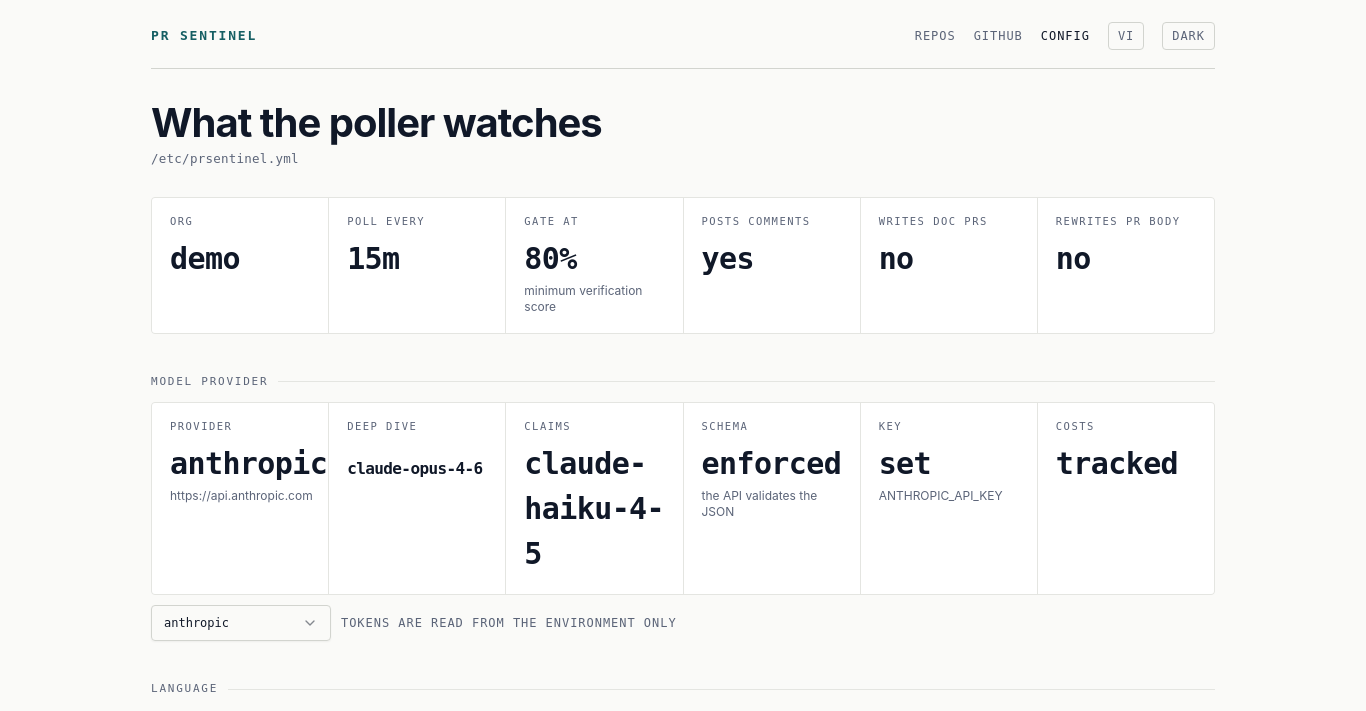
Test: App › renders the config page in Vietnamese
The image size is (1366, 711).
Click the button "VI": (1126,36) [1108, 22, 1144, 50]
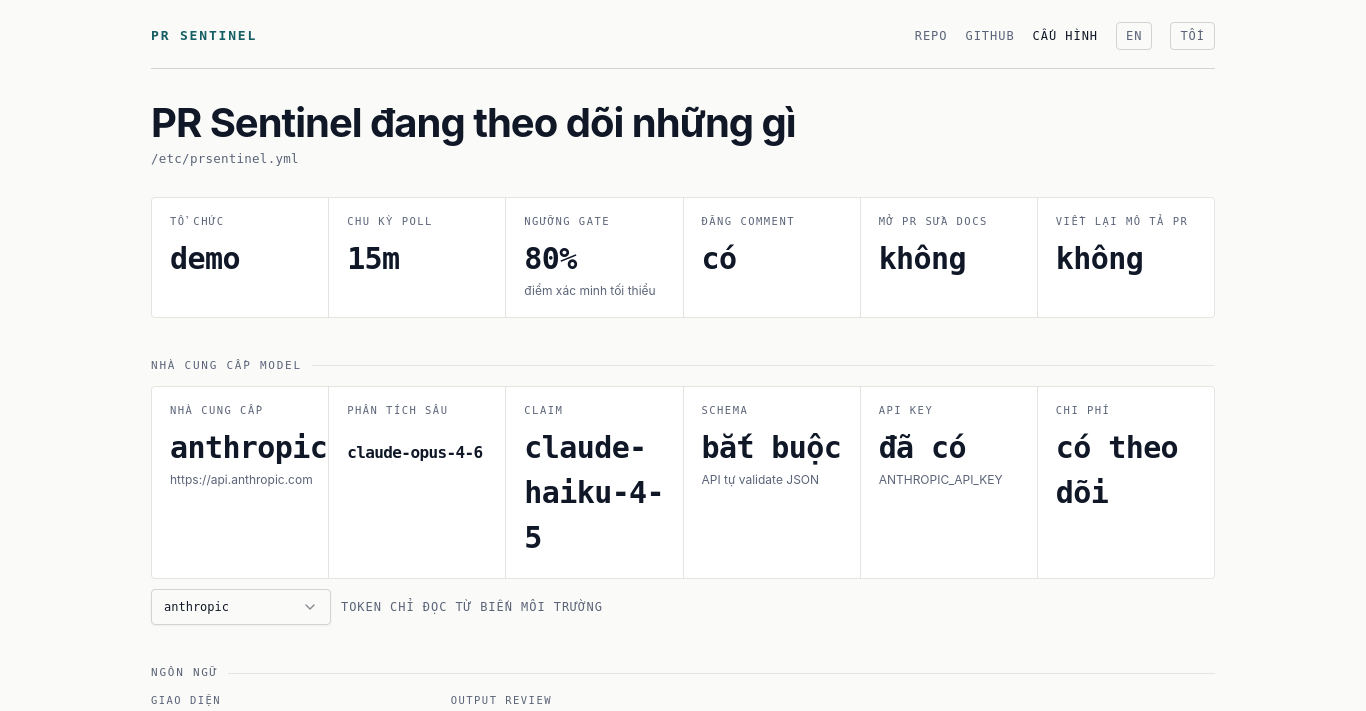
Result: the text "PR Sentinel đang theo dõi những gì" is shown at [151, 98, 796, 147]
Result: the text "Nhà cung cấp model" is shown at [151, 359, 302, 372]
Result: the text "What the poller watches" is gone
Click the button "EN": (1134,36) [1116, 22, 1152, 50]
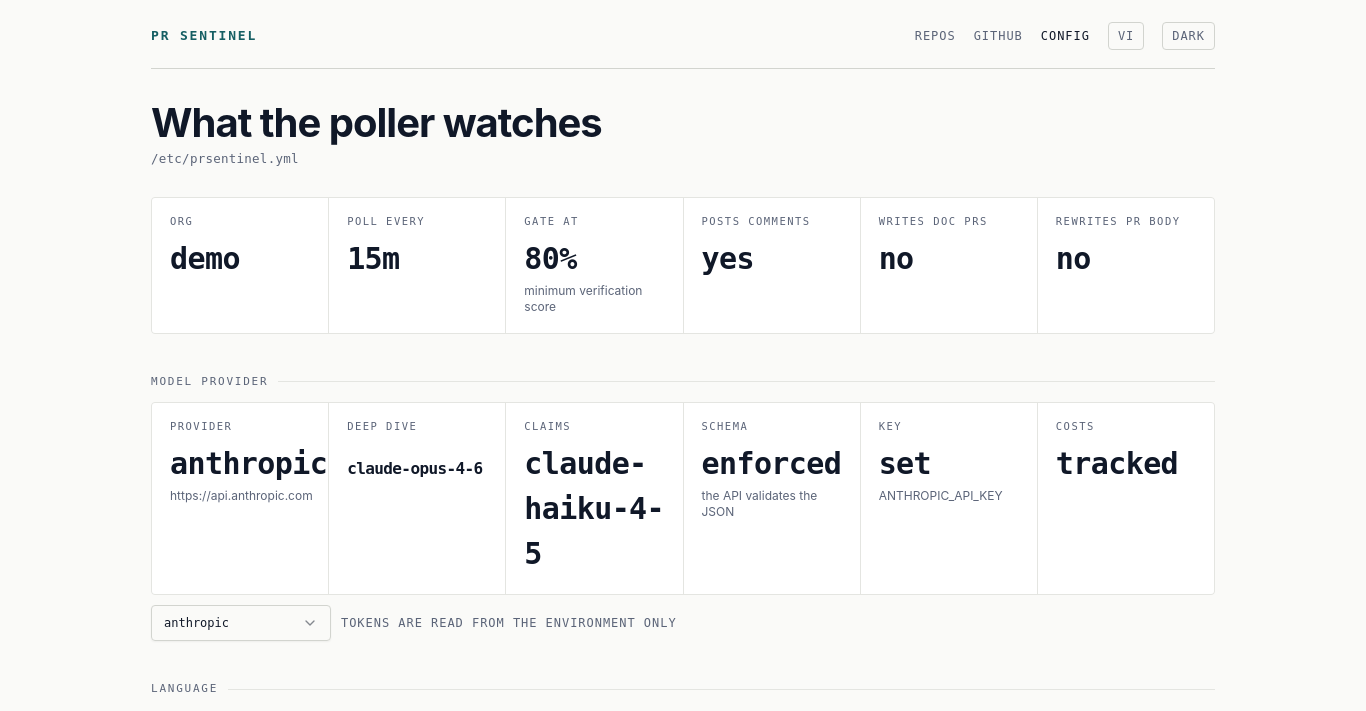
Result: the text "What the poller watches" is shown at [151, 98, 602, 147]
